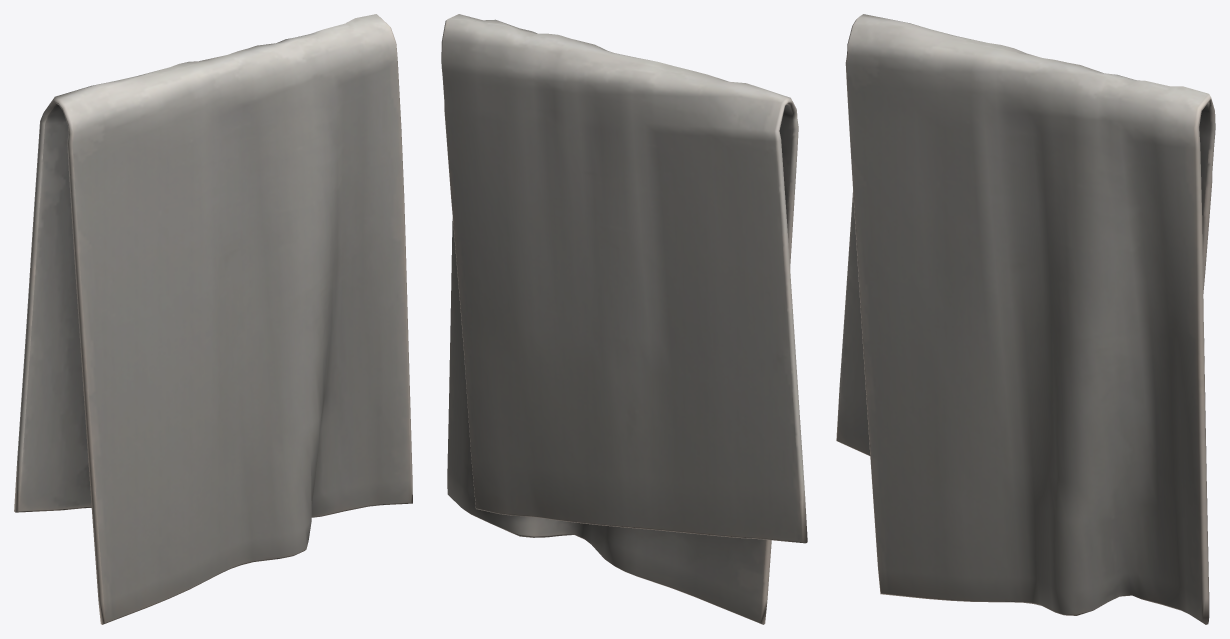
File: SM_Towel_03.fbx
3 renders of one model, left to right at view 1: azimuth 30°, elevation 25°; view 2: azimuth 150°, elevation 25°; view 3: azimuth 330°, elevation 25°, orthographic. The views are drawn at different scales.
Visible parts, largest first — view 1: SM_Towel_03_LOD0; view 2: SM_Towel_03_LOD0; view 3: SM_Towel_03_LOD0.
Part boxes in pixels (left/top/right/bottom): SM_Towel_03_LOD0: left=14, top=14, right=412, bottom=624; SM_Towel_03_LOD0: left=441, top=14, right=807, bottom=624; SM_Towel_03_LOD0: left=836, top=14, right=1215, bottom=624.
Size of the model in its own units: 32.9 by 5.76 by 44.71.
1 material, 1 textured.
